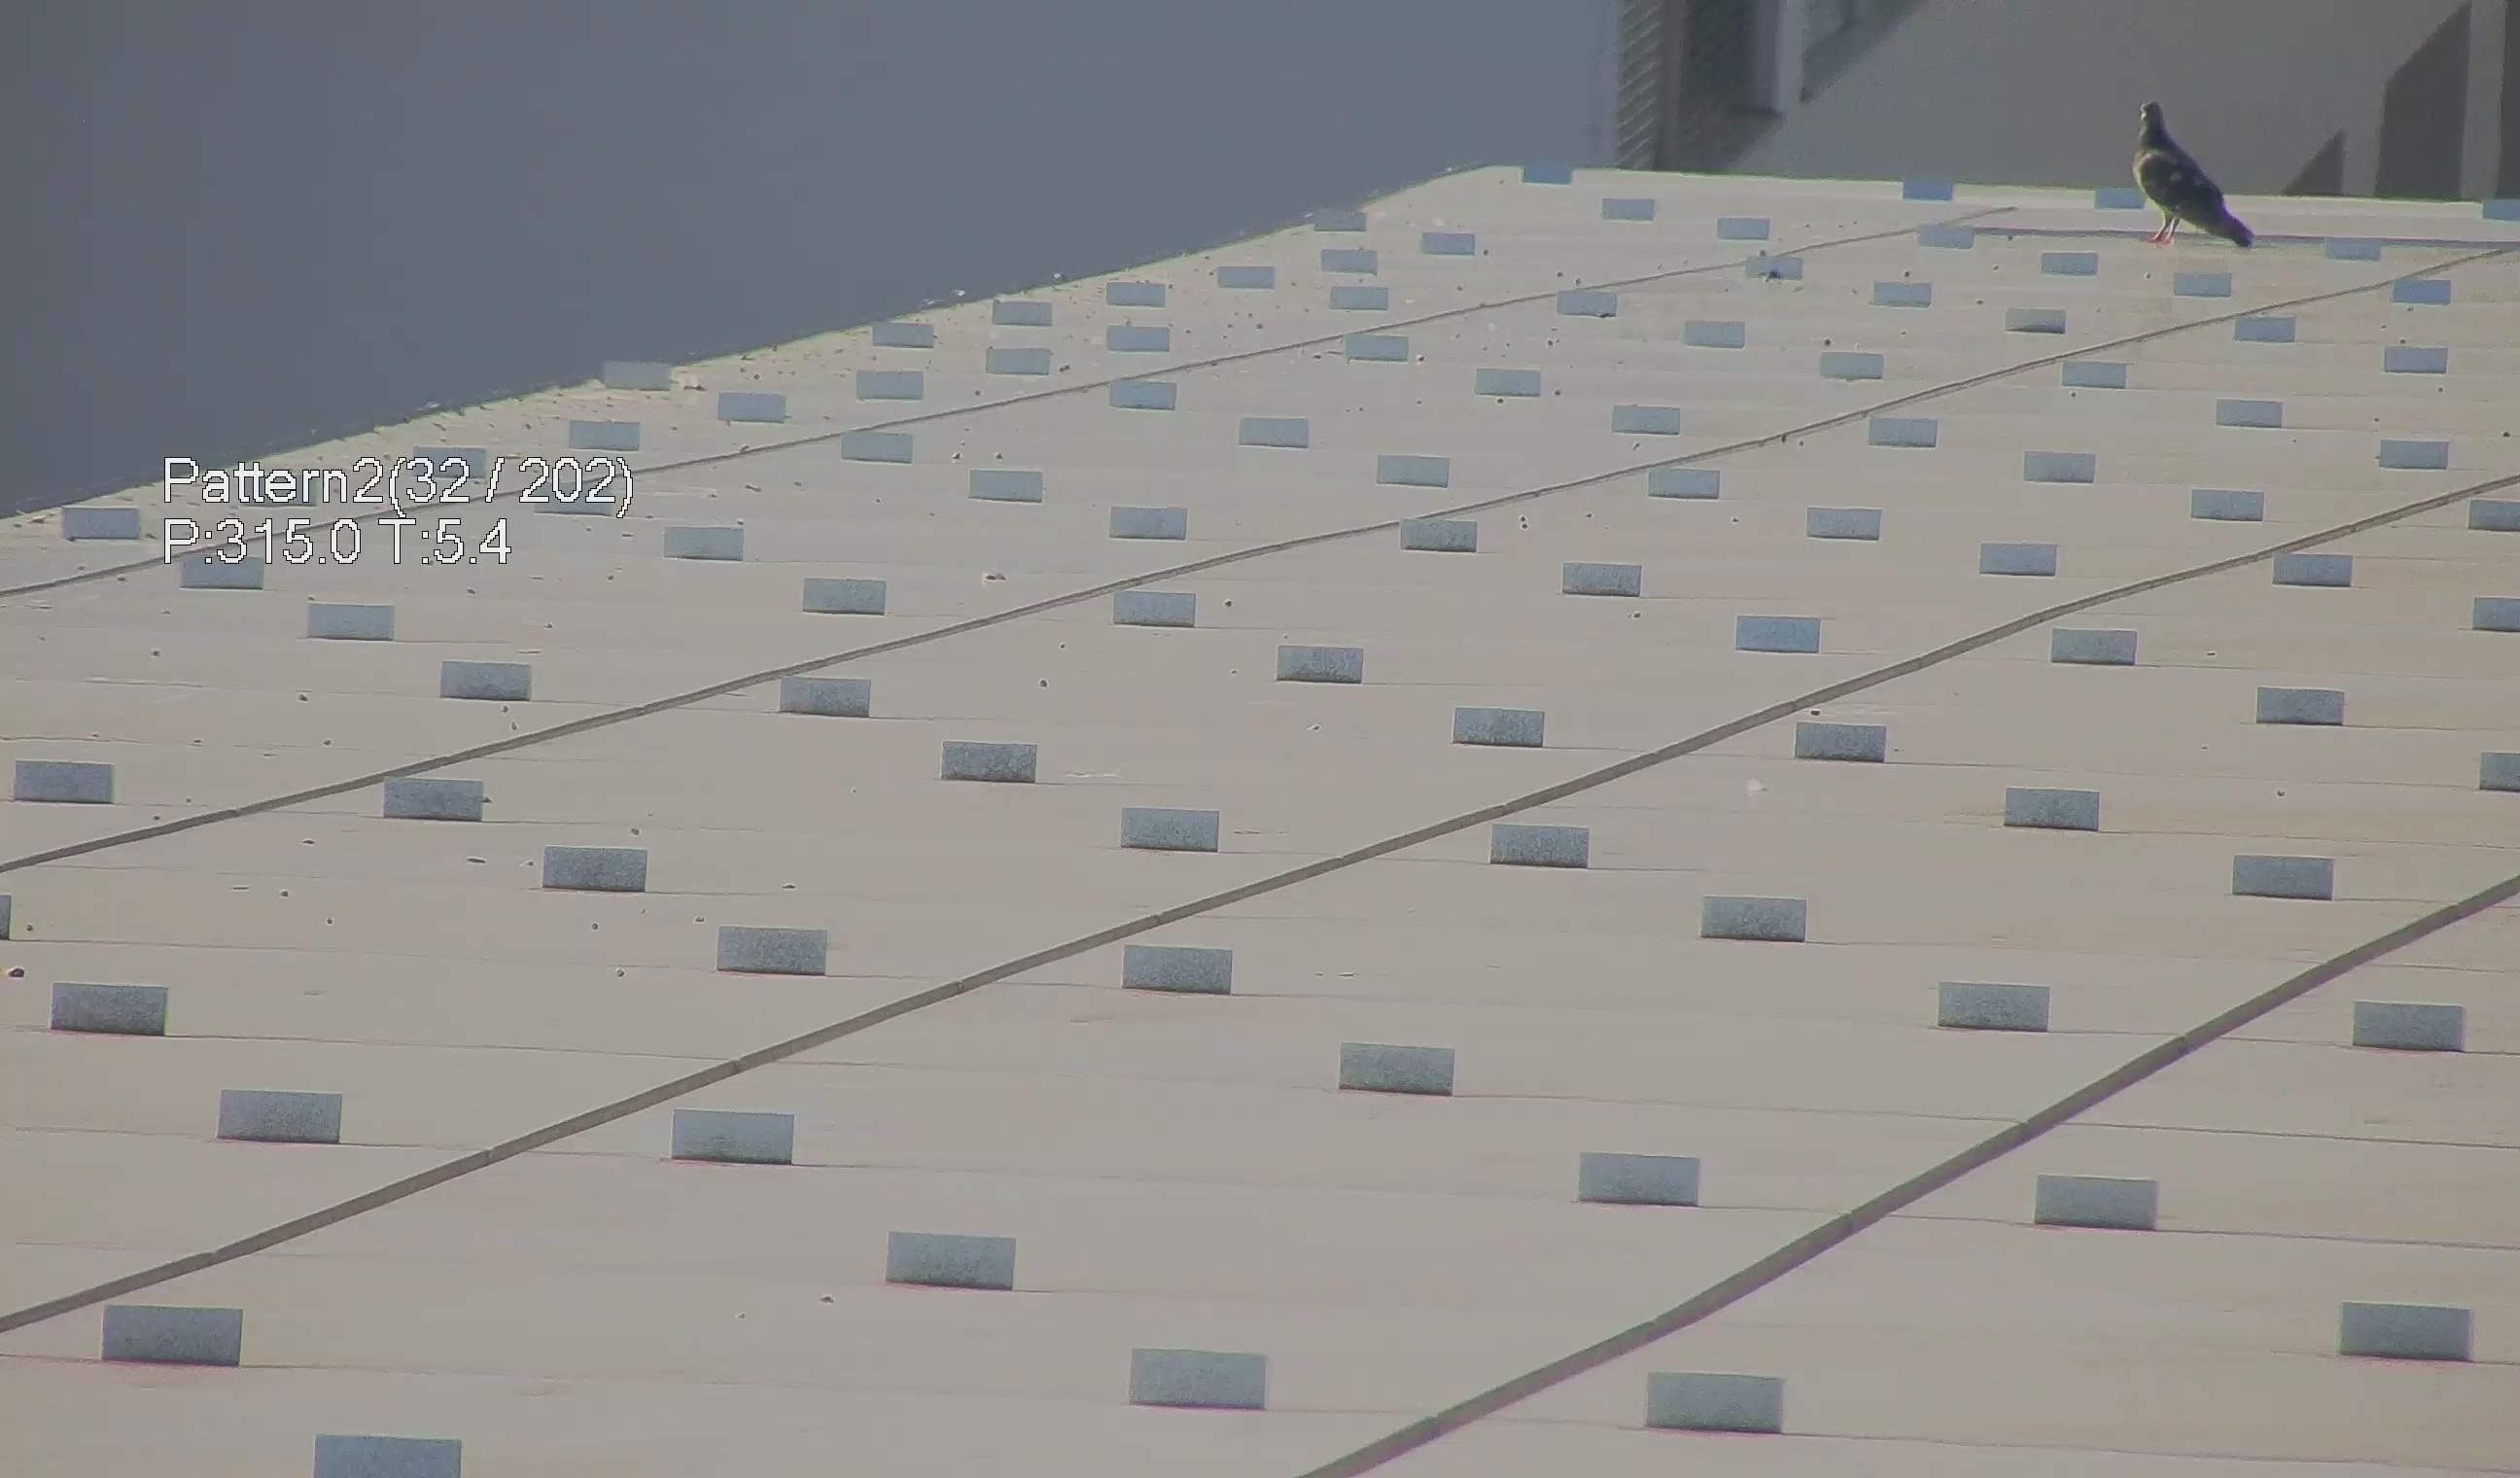Pigeon: (2133, 90, 2269, 262)
